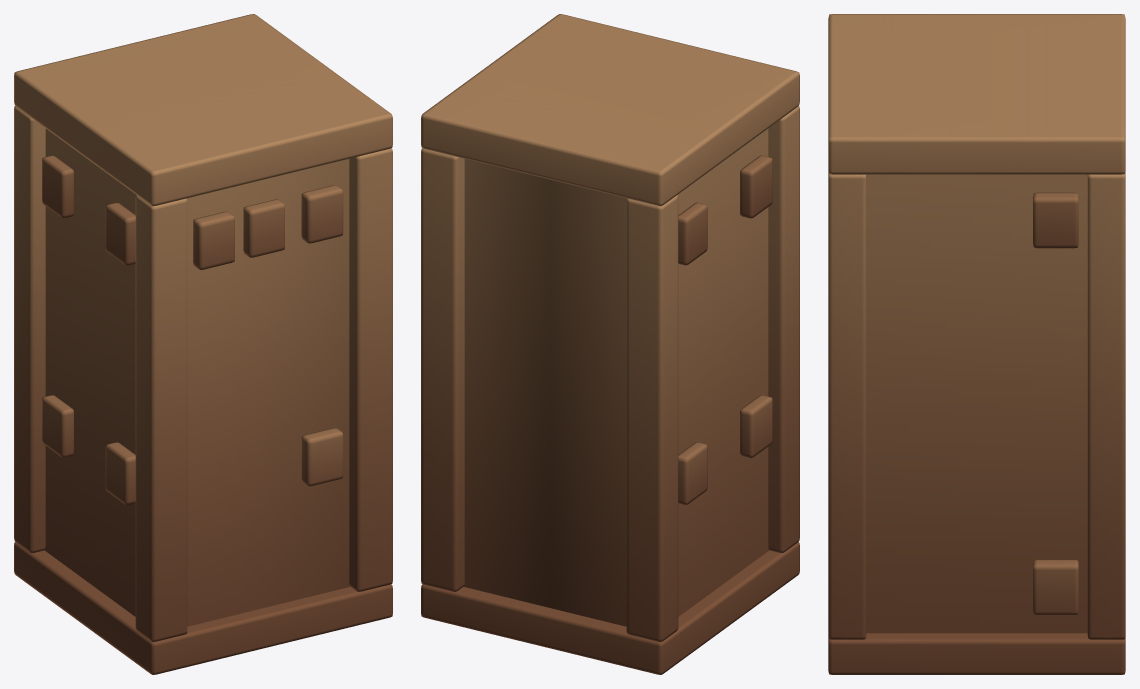
Rendered from SM_Clay_Body_06.fbx.
3 renders of one model, left to right at view 1: azimuth 30°, elevation 25°; view 2: azimuth 150°, elevation 25°; view 3: azimuth 270°, elevation 25°, orthographic. The views are drawn at different scales.
Parts seen in each view (by area): view 1: SM_Clay_Body_06; view 2: SM_Clay_Body_06; view 3: SM_Clay_Body_06.
Boxes of the visible parts, box(x1,y1,x2,y2) form: SM_Clay_Body_06: box(14, 14, 392, 674); SM_Clay_Body_06: box(421, 14, 799, 674); SM_Clay_Body_06: box(828, 14, 1125, 674).
Bounding box in the file's own units: 1 × 1.99 × 1.
Materials: 1 (1 with a texture image).
